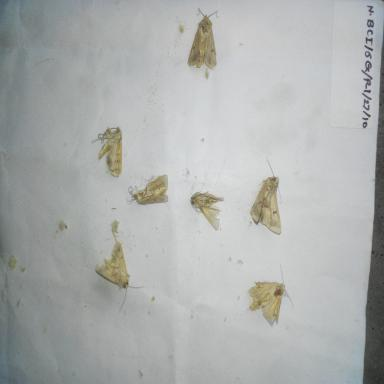abw: (92, 237, 148, 310), (246, 264, 297, 334), (246, 156, 287, 238), (181, 7, 227, 77), (127, 168, 178, 222), (88, 121, 131, 180), (183, 188, 228, 236)
